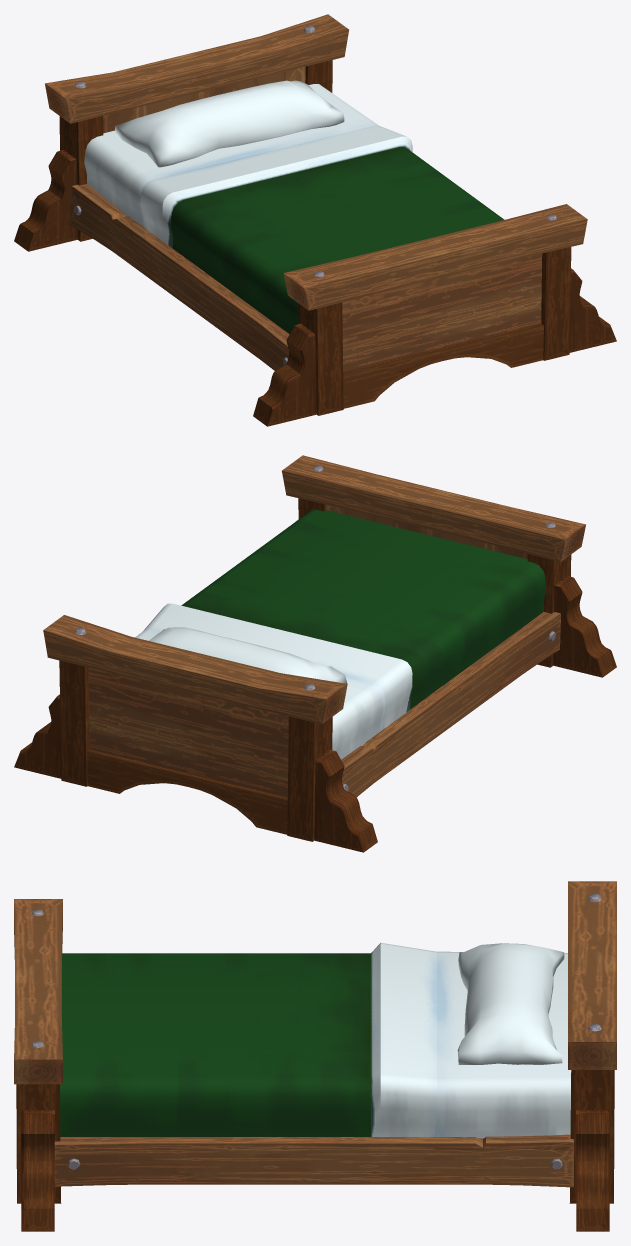
Rendered from Bed_Twin2.gltf.
The picture shows the model from 3 angles, top to bottom: view 1: azimuth 30°, elevation 25°; view 2: azimuth 150°, elevation 25°; view 3: azimuth 270°, elevation 25°; orthographic projection. The views are drawn at different scales.
Visible parts, largest first — view 1: Bed_Twin2; view 2: Bed_Twin2; view 3: Bed_Twin2.
Part boxes in pixels (<box>): Bed_Twin2: <box>14,14,616,426</box>; Bed_Twin2: <box>14,455,616,852</box>; Bed_Twin2: <box>14,881,616,1231</box>.
Bounding box in the file's own units: 1.88 × 0.7596 × 2.41.
3 materials, 3 textured.
